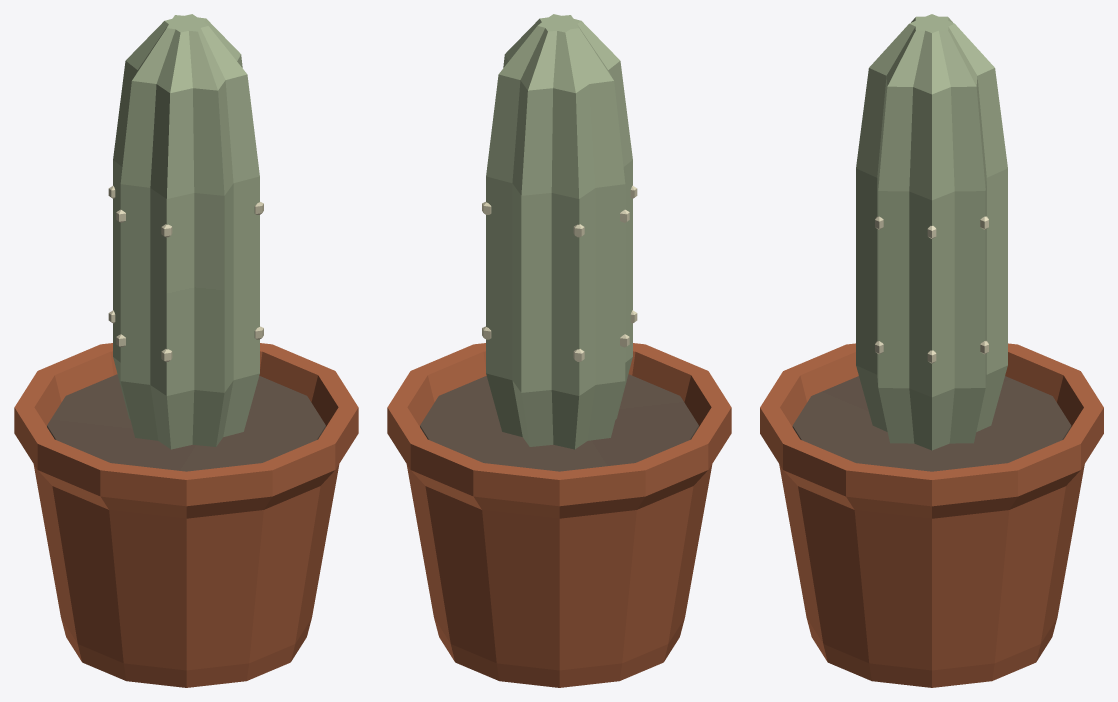
Rendered from new-senilis.glb.
3 renders of one model, left to right at view 1: azimuth 30°, elevation 25°; view 2: azimuth 150°, elevation 25°; view 3: azimuth 270°, elevation 25°, orthographic.
Parts seen in each view (by area): view 1: new-senilis/review-terra-vessel, new-senilis/ribbed-stem-001, new-senilis/review-rooted-soil; view 2: new-senilis/review-terra-vessel, new-senilis/ribbed-stem-001, new-senilis/review-rooted-soil; view 3: new-senilis/review-terra-vessel, new-senilis/ribbed-stem-001, new-senilis/review-rooted-soil.
Part boxes in pixels (x1,y1,x2,y2): new-senilis/review-terra-vessel: [14, 343, 358, 687]; new-senilis/ribbed-stem-001: [113, 14, 259, 449]; new-senilis/review-rooted-soil: [47, 374, 325, 471]; new-senilis/review-terra-vessel: [387, 343, 731, 687]; new-senilis/ribbed-stem-001: [486, 14, 632, 449]; new-senilis/review-rooted-soil: [420, 374, 698, 471]; new-senilis/review-terra-vessel: [760, 343, 1103, 687]; new-senilis/ribbed-stem-001: [856, 14, 1007, 450]; new-senilis/review-rooted-soil: [792, 376, 1071, 471].
Bounding box in the file's own units: 0.19 × 0.374 × 0.19.
Materials: 4 (4 with a texture image).
